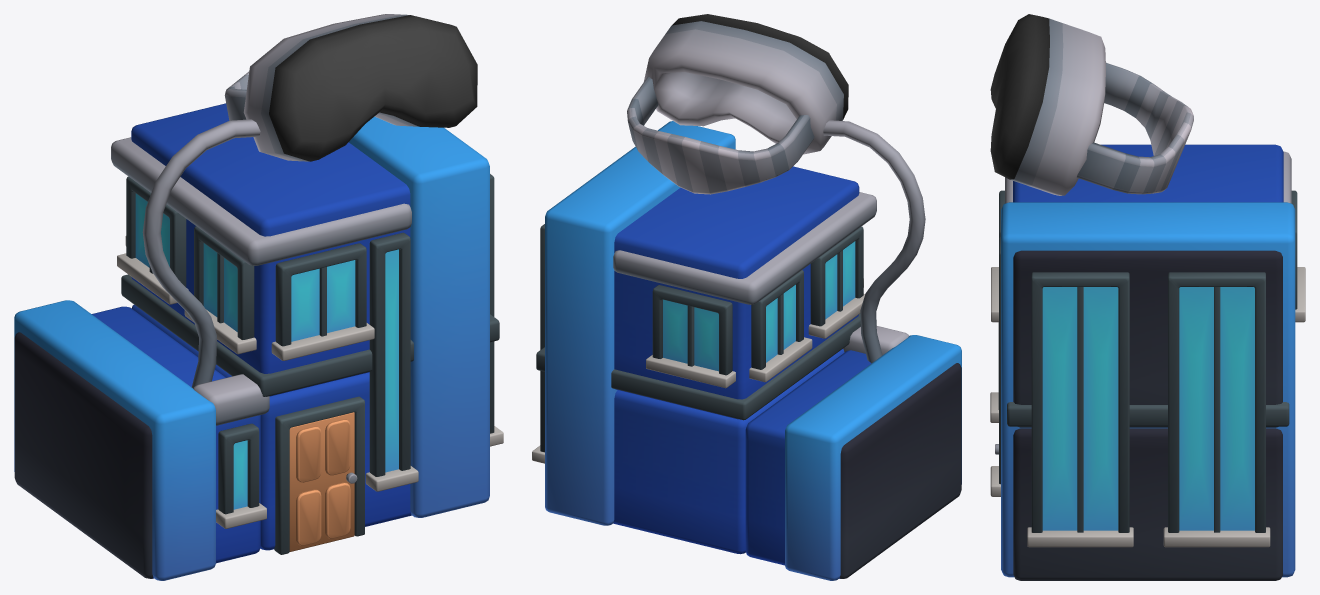
The model's file is mct_build_full_vr.fbx.
The picture shows the model from 3 angles, left to right: view 1: azimuth 30°, elevation 25°; view 2: azimuth 150°, elevation 25°; view 3: azimuth 270°, elevation 25°; orthographic projection. The views are drawn at different scales.
Parts seen in each view (by area): view 1: mct_build_full_vr, mct_build_full_vr_door; view 2: mct_build_full_vr; view 3: mct_build_full_vr.
Part boxes in pixels (x1=…): mct_build_full_vr: x1=14, y1=14, x2=503, y2=580; mct_build_full_vr_door: x1=289, y1=412, x2=357, y2=551; mct_build_full_vr: x1=532, y1=14, x2=961, y2=580; mct_build_full_vr: x1=990, y1=14, x2=1305, y2=580.
Size of the model in its own units: 621 by 801 by 466.
